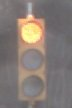Red: (12, 15, 48, 108)
